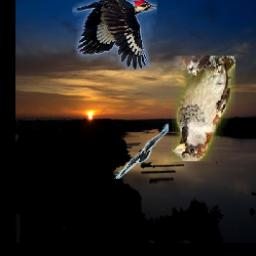Crow: (115, 124, 170, 180)
Sparrow: (172, 56, 235, 161)
Woodpecker: (73, 0, 158, 69)
